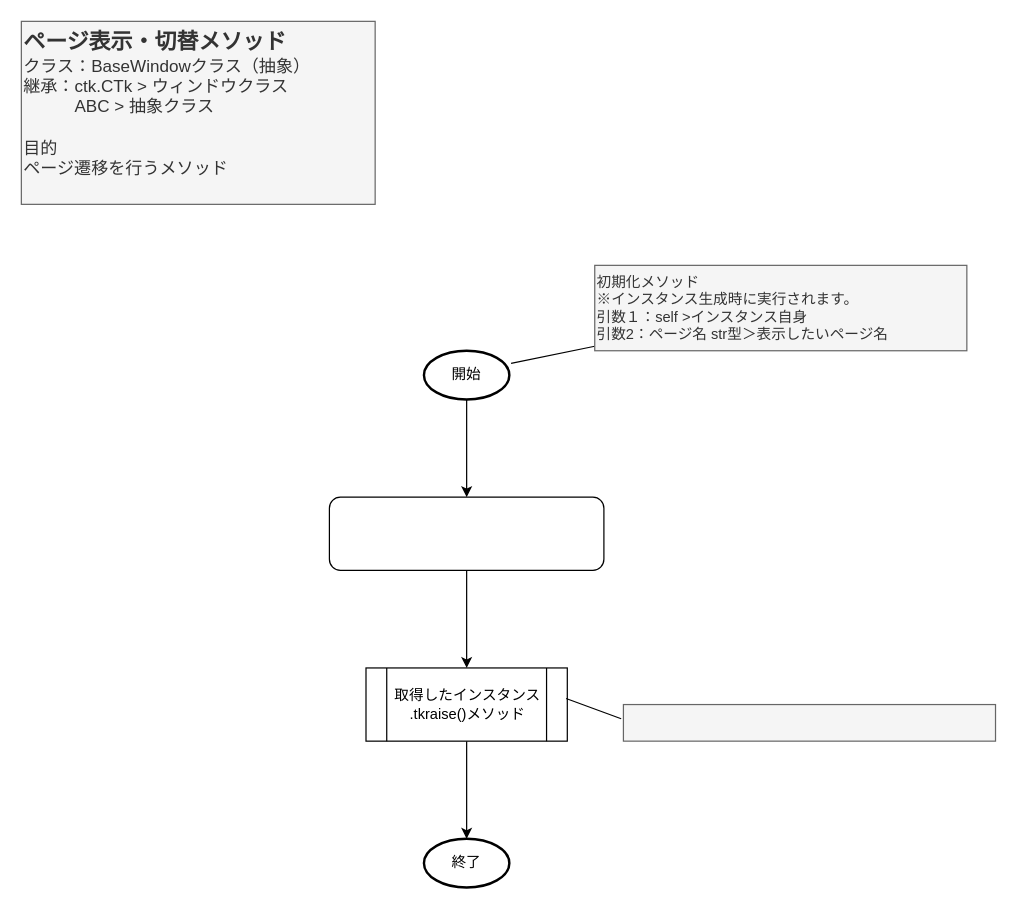
This 1017x910 diagram has some shape labels left out. The box of each missing label's shape, as (x1, y1, x2, y2) in pixels:
__init__メソッドで作成した ページクラス格納用の辞書型配列から 引数２をキーにインスタンスを取得: (328, 496, 604, 570)
取り出したページインスタンスを表示するメソッド: (622, 703, 996, 741)
